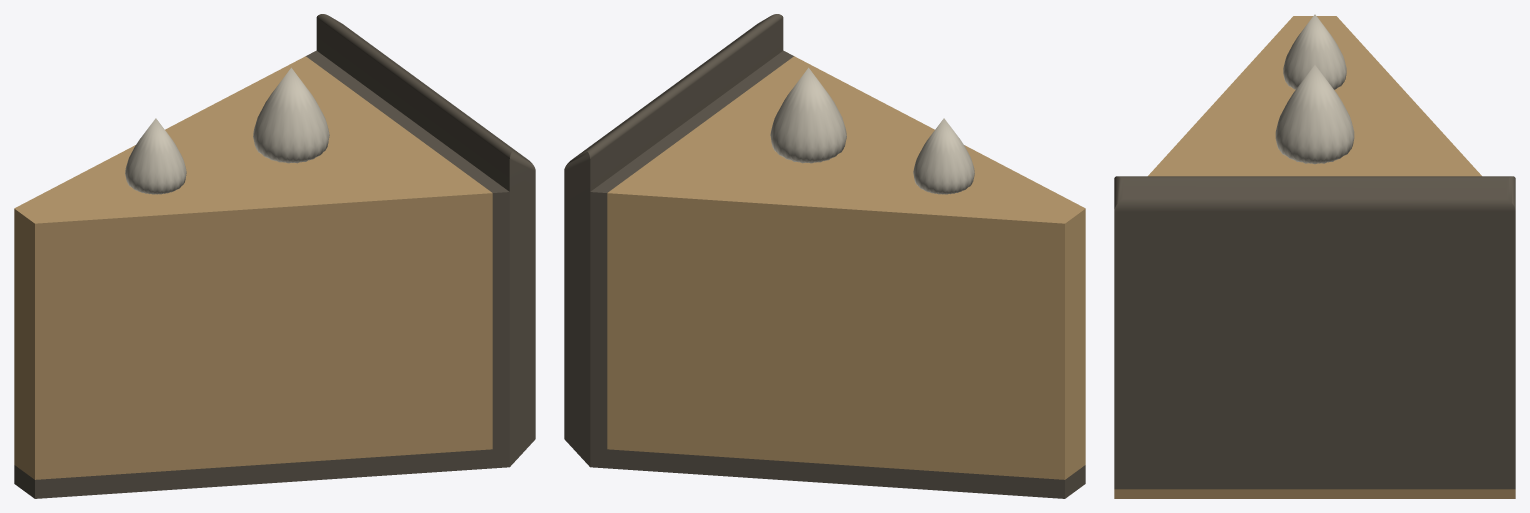
Rendered from pastel.fbx.
The picture shows the model from 3 angles, left to right: view 1: azimuth 30°, elevation 25°; view 2: azimuth 150°, elevation 25°; view 3: azimuth 270°, elevation 25°; orthographic projection. The views are drawn at different scales.
Parts seen in each view (by area): view 1: pastel; view 2: pastel; view 3: pastel.
Part boxes in pixels (<box>): pastel: <box>14,14,535,498</box>; pastel: <box>564,14,1085,498</box>; pastel: <box>1114,14,1515,498</box>.
Bounding box in the file's own units: 4.29 × 3.55 × 3.46.
